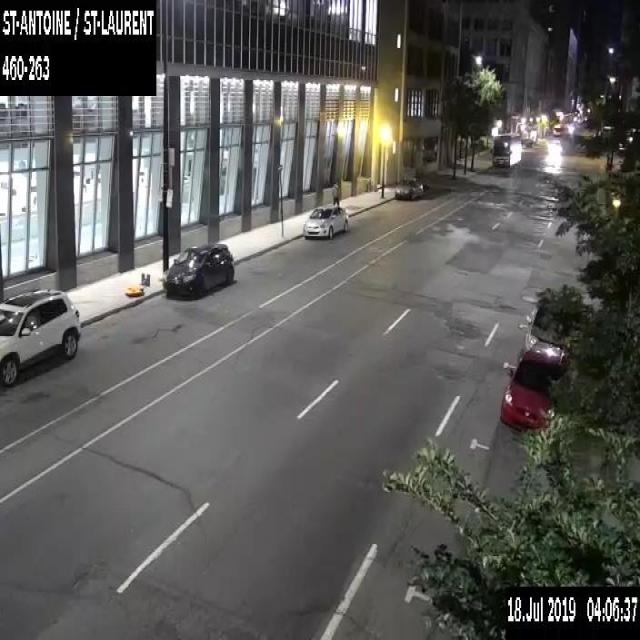bus: (492, 132, 521, 166)
construction: (122, 272, 150, 293)
pedestrian: (331, 180, 339, 204)
vehicle: (0, 285, 81, 387), (497, 340, 568, 437), (162, 242, 234, 300), (516, 301, 578, 354), (302, 202, 348, 238), (394, 176, 422, 198)
